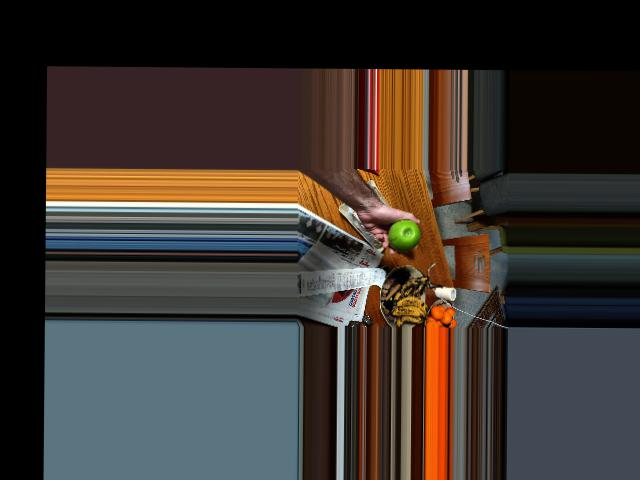apple: (385, 219, 425, 252)
